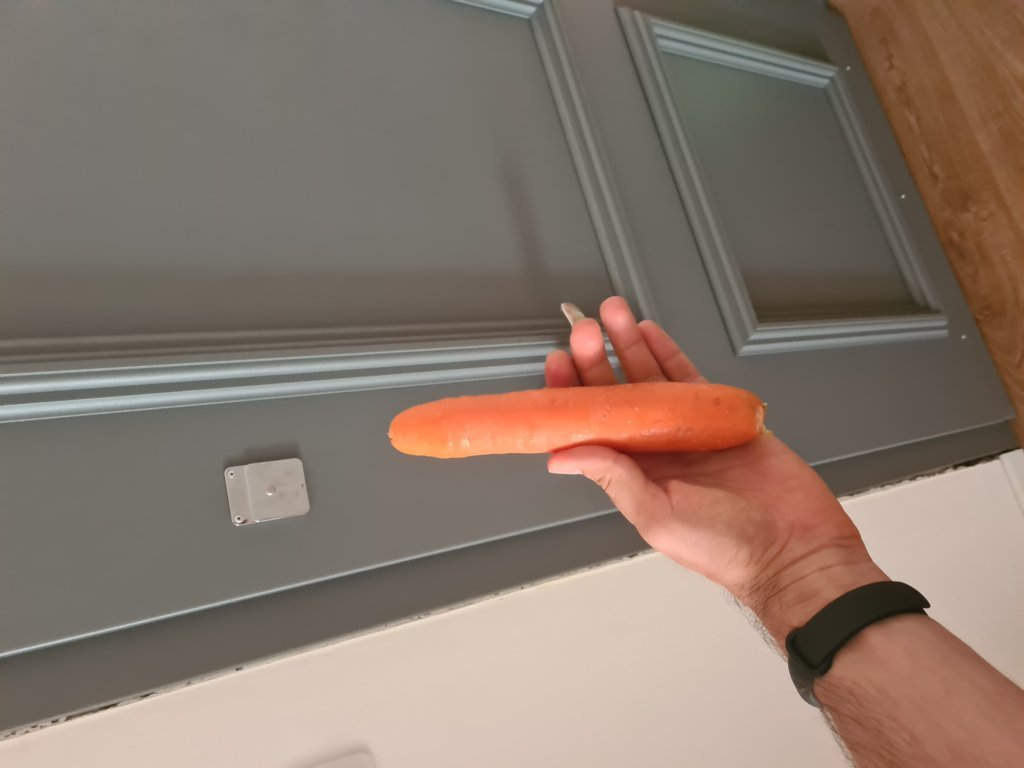carrot: (394, 381, 760, 470)
